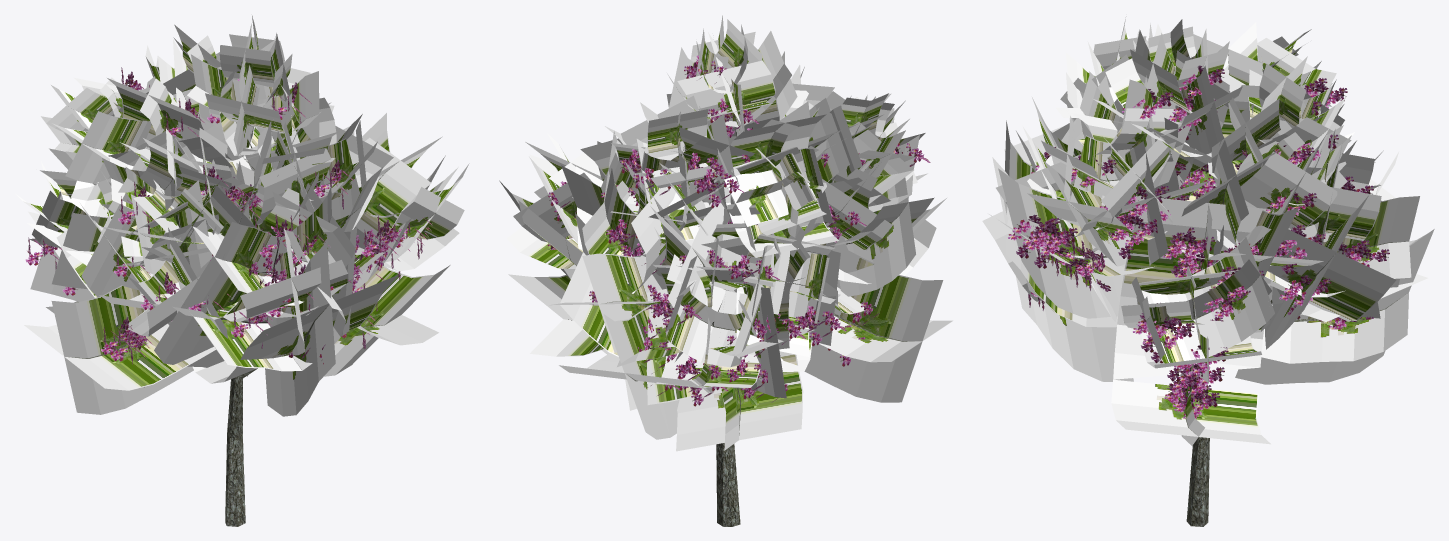
File: tabebuia.glb
3 renders of one model, left to right at view 1: azimuth 30°, elevation 25°; view 2: azimuth 150°, elevation 25°; view 3: azimuth 270°, elevation 25°, orthographic. The views are drawn at different scales.
Parts seen in each view (by area): view 1: Mesh1441 Lapacho_Rosado W3D_Tabebuia_rosea_lapacho_rosado___, Mesh128 flores_rosas1 Lapacho_Rosado W3D_Tabebuia_rosea_lapa, Mesh1 Group1 W3D_Tabebuia_rosea_lapacho_rosado___Ger_A1 Mode; view 2: Mesh1441 Lapacho_Rosado W3D_Tabebuia_rosea_lapacho_rosado___, Mesh128 flores_rosas1 Lapacho_Rosado W3D_Tabebuia_rosea_lapa, Mesh1 Group1 W3D_Tabebuia_rosea_lapacho_rosado___Ger_A1 Mode; view 3: Mesh1441 Lapacho_Rosado W3D_Tabebuia_rosea_lapacho_rosado___, Mesh128 flores_rosas1 Lapacho_Rosado W3D_Tabebuia_rosea_lapa, Mesh1 Group1 W3D_Tabebuia_rosea_lapacho_rosado___Ger_A1 Mode.
Boxes of the visible parts, x1,y1,x2,y2 form: Mesh1441 Lapacho_Rosado W3D_Tabebuia_rosea_lapacho_rosado___: (16,15,469,416); Mesh128 flores_rosas1 Lapacho_Rosado W3D_Tabebuia_rosea_lapa: (25,67,432,387); Mesh1 Group1 W3D_Tabebuia_rosea_lapacho_rosado___Ger_A1 Mode: (51,60,435,526); Mesh1441 Lapacho_Rosado W3D_Tabebuia_rosea_lapacho_rosado___: (499,15,952,451); Mesh128 flores_rosas1 Lapacho_Rosado W3D_Tabebuia_rosea_lapa: (547,55,930,406); Mesh1 Group1 W3D_Tabebuia_rosea_lapacho_rosado___Ger_A1 Mode: (558,64,914,526); Mesh1441 Lapacho_Rosado W3D_Tabebuia_rosea_lapacho_rosado___: (982,16,1434,445); Mesh128 flores_rosas1 Lapacho_Rosado W3D_Tabebuia_rosea_lapa: (1008,65,1389,418); Mesh1 Group1 W3D_Tabebuia_rosea_lapacho_rosado___Ger_A1 Mode: (1020,37,1405,526).
Size of the model in its own units: 3.99 by 4.48 by 3.61.
3 materials, 3 textured.
